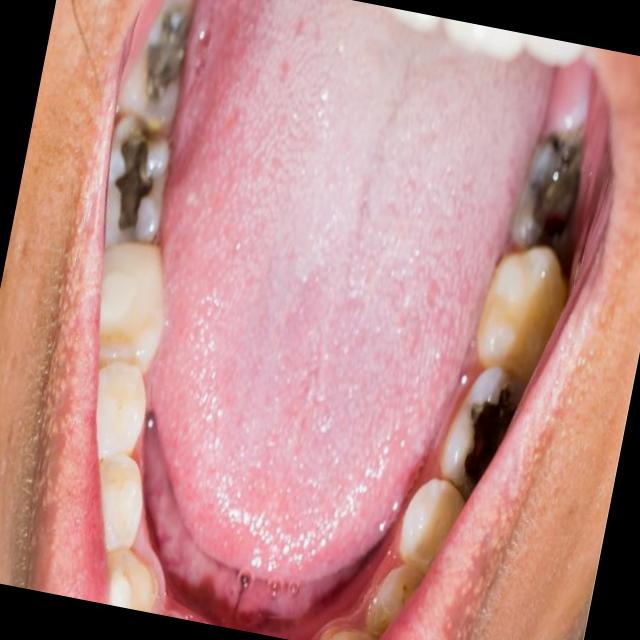caries: (505, 113, 601, 290), (95, 122, 168, 252), (450, 382, 520, 507), (137, 0, 196, 117)
